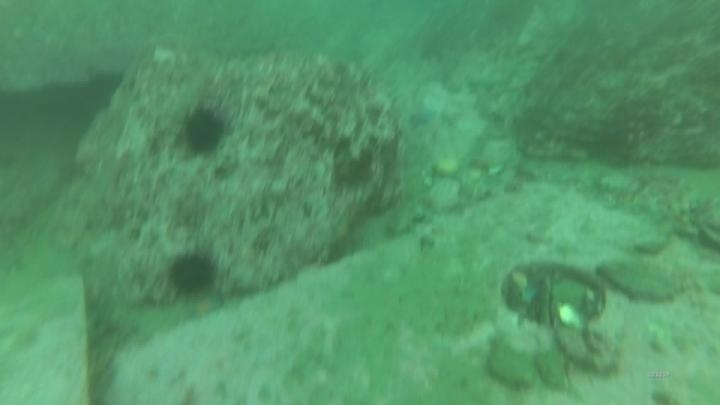echinus: (179, 102, 230, 158), (165, 248, 219, 299)
starfish: (181, 288, 227, 325)
